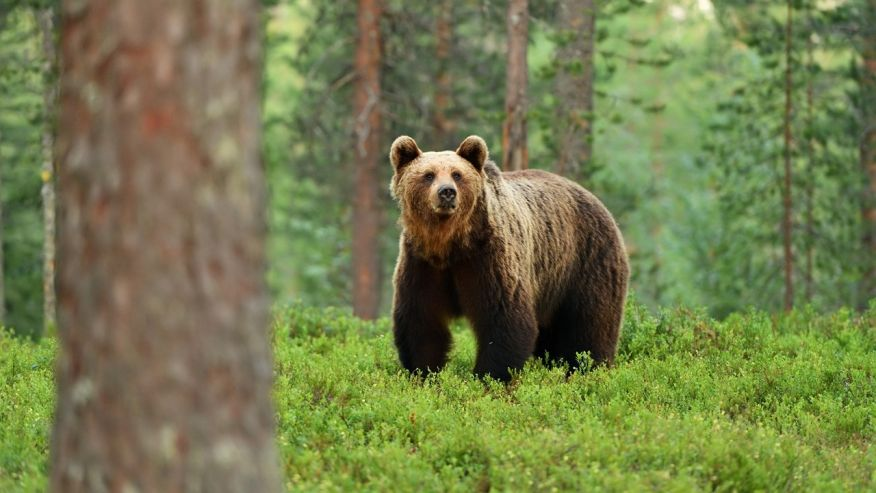bear: (381, 133, 492, 226)
